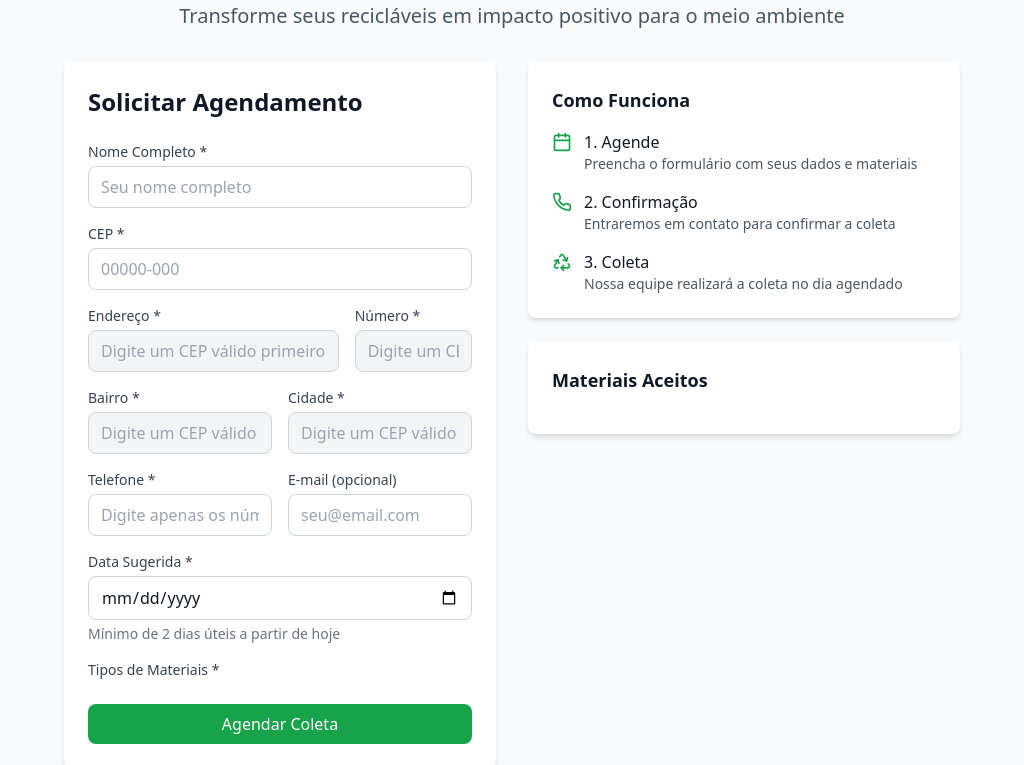
Test case: Home Component › deve validar campos obrigatórios
(page scrolled)
Click the button "Agendar Coleta" at (280, 724), box left=88, top=704, right=472, bottom=744
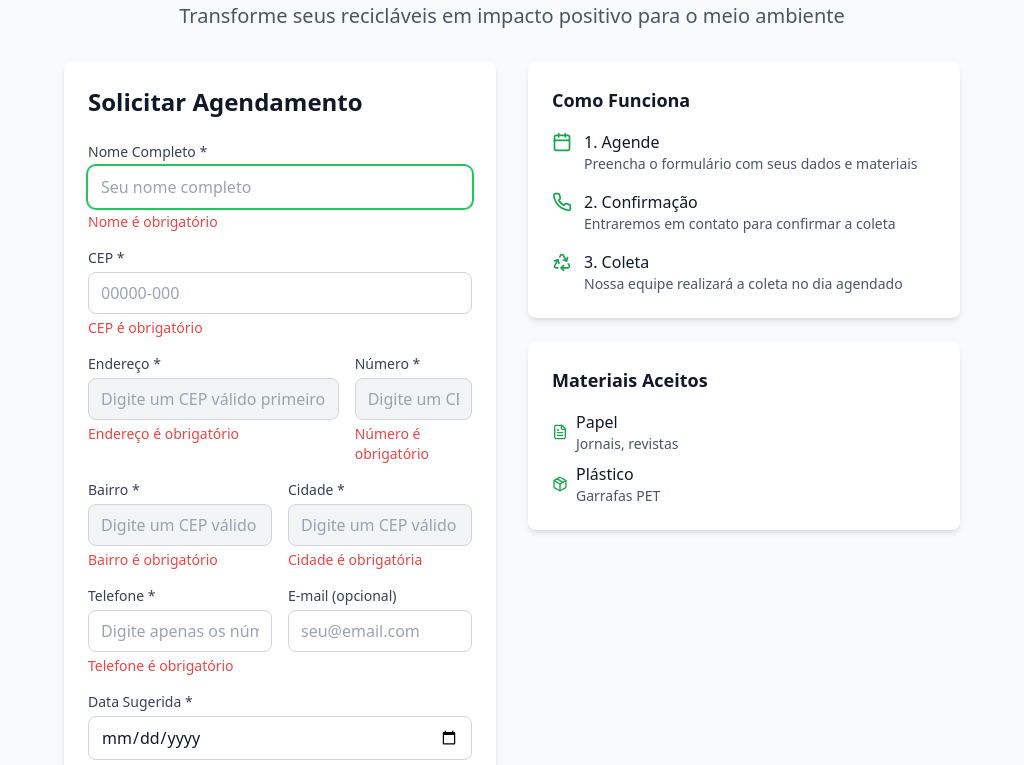
Expected: the text "Nome é obrigatório" is shown, left=88, top=212, right=218, bottom=231
